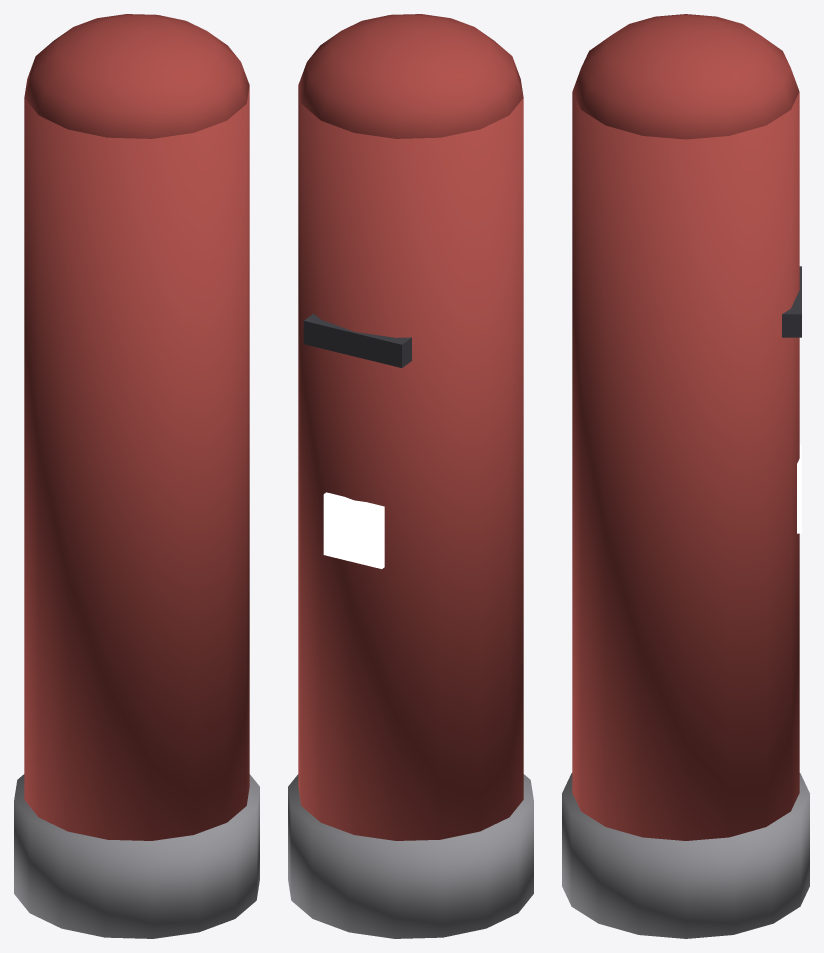
File: prop_maru_post.glb
The picture shows the model from 3 angles, left to right: view 1: azimuth 30°, elevation 25°; view 2: azimuth 150°, elevation 25°; view 3: azimuth 270°, elevation 25°; orthographic projection.
Visible parts, largest first — view 1: maru_post; view 2: maru_post; view 3: maru_post.
Boxes of the visible parts, x1,y1,x2,y2 form: maru_post: (14, 14, 259, 938); maru_post: (288, 14, 533, 938); maru_post: (562, 14, 809, 938).
Bounding box in the file's own units: 0.48 × 1.83 × 0.48.
